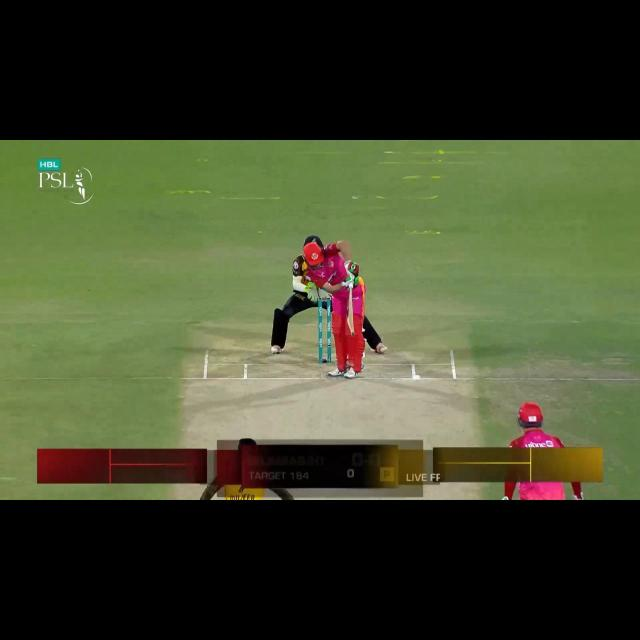bat: (347, 287, 356, 336)
toe: (348, 327, 355, 336)
